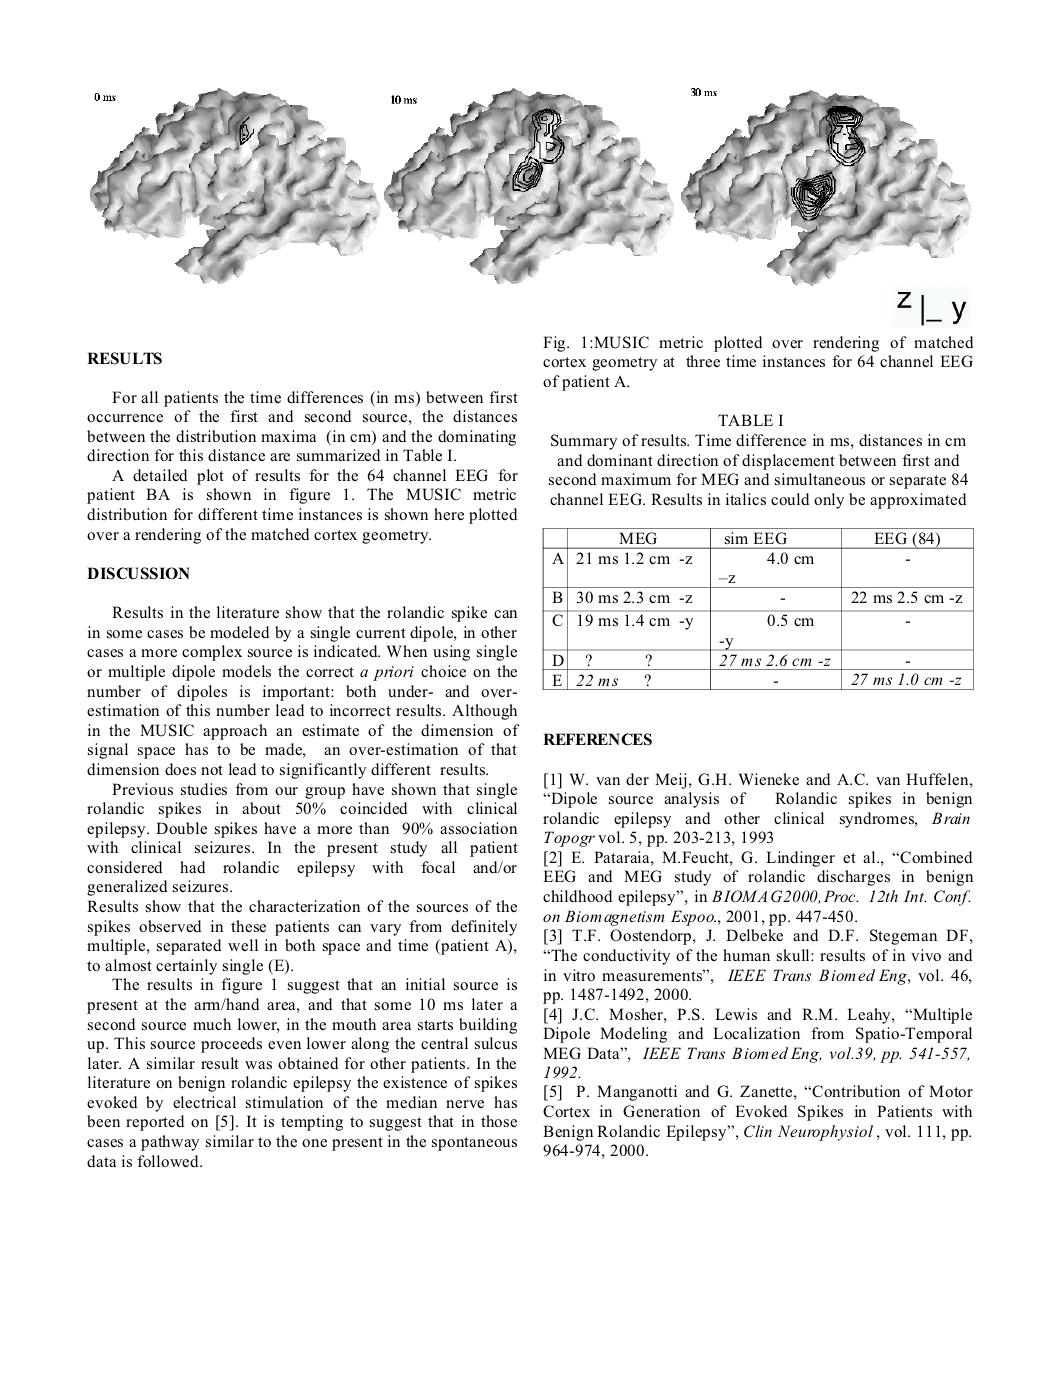Table: (542, 527, 973, 690)
figure: (681, 88, 970, 284), (90, 88, 380, 283), (385, 88, 673, 283), (897, 291, 966, 327)
